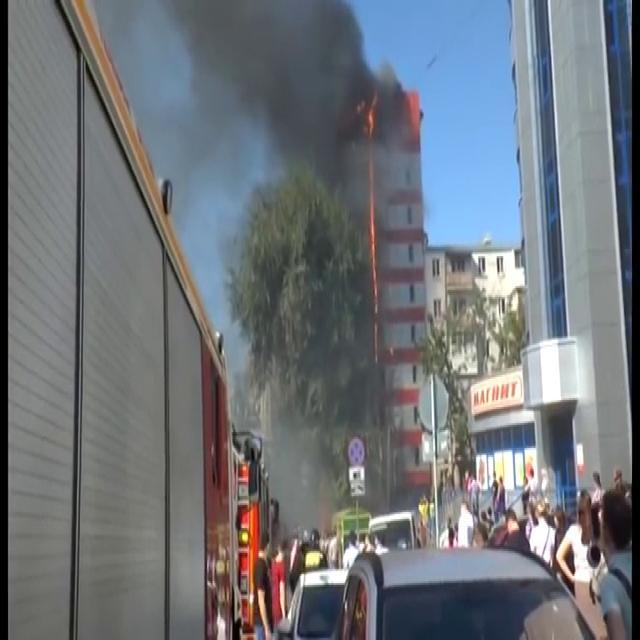Smoke: (115, 0, 408, 219)
